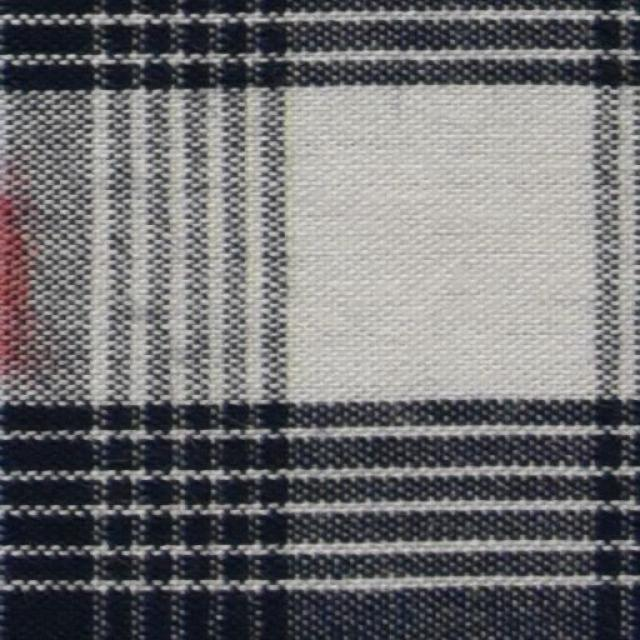Stain: (0, 190, 32, 383)
